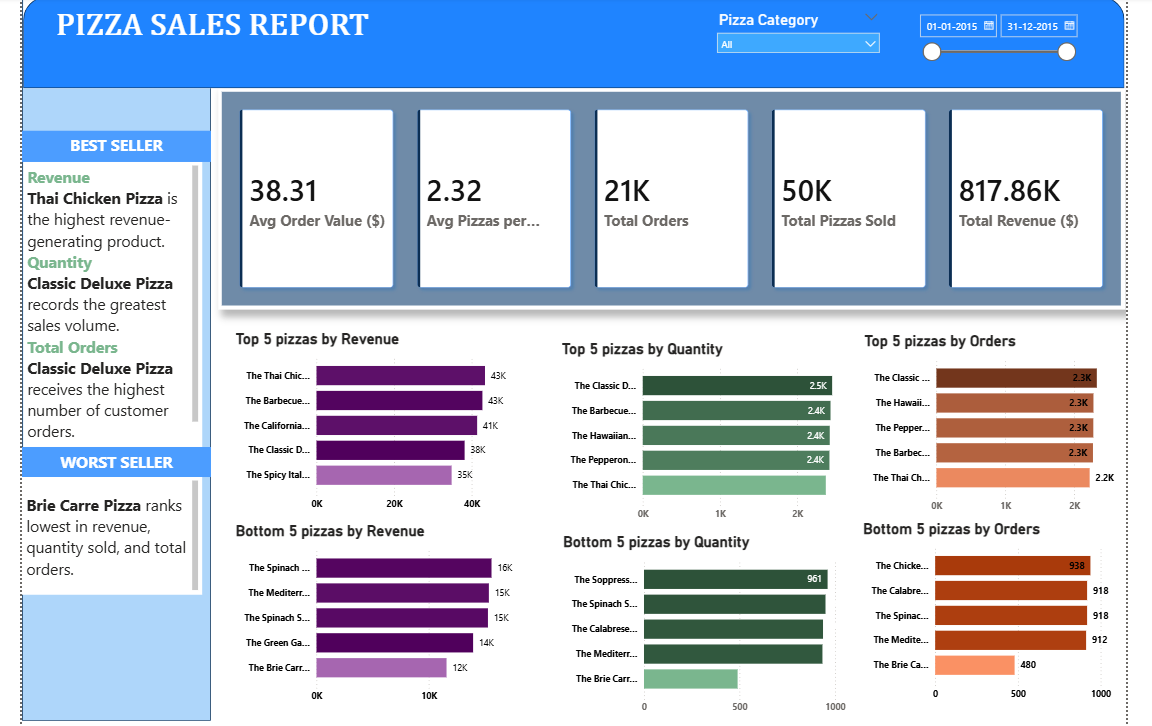

The page's visual inventory and layout, read from the dashboard file:
{"tool":"powerbi","page":{"name":"Best/Worst Sellers","canvas":[1500,1000],"ordinal":1},"visuals":[{"type":"cardVisual","fields":{"Data":["pizza_sales.Avg Order Value","pizza_sales.Avg Pizzas per Order","pizza_sales.Total Orders","pizza_sales.Total Pizzas","pizza_sales.Total Revenue"]},"box":[266.6,124,1233,300.6],"z":0},{"type":"qnaVisual","box":[1267.1,705.7,12.9,14.3],"z":1000},{"type":"shape","box":[0,0,256.5,983.4],"z":2000},{"type":"textbox","box":[0,181.7,256.5,42.5],"z":3000},{"type":"textbox","box":[1.7,224.2,242.9,387.2],"z":4000},{"type":"textbox","box":[0,611.4,256.5,40.8],"z":5000},{"type":"textbox","box":[0,652.2,244.6,159.6],"z":6000},{"type":"shape","box":[1.7,0,1496.3,124],"z":7000},{"type":"slicer","fields":{"Values":["pizza_sales.pizza_category"]},"box":[934.1,13.6,241.2,98.5],"z":8000},{"type":"slicer","fields":{"Values":["pizza_sales.order_date"]},"box":[1207.5,13.6,232.7,98.5],"z":9000},{"type":"textbox","title":"PIZZA SALES REPORT","box":[40.8,13.6,450.1,110.4],"z":10000},{"type":"barChart","title":"Top 5 pizzas by Revenue","fields":{"Category":["pizza_sales.pizza_name"],"Y":["pizza_sales.Total Revenue ($)"]},"box":[285.3,451.8,409.3,254.8],"z":11000},{"type":"barChart","title":"Bottom 5 pizzas by Revenue","fields":{"Category":["pizza_sales.pizza_name"],"Y":["pizza_sales.Total Revenue ($)"]},"box":[285.3,713.3,409.3,254.8],"z":12000},{"type":"barChart","title":"Top 5 pizzas by Quantity","fields":{"Category":["pizza_sales.pizza_name"],"Y":["pizza_sales.Total Pizzas Sold"]},"box":[728.6,465.4,409.3,254.8],"z":13000},{"type":"barChart","title":"Bottom 5 pizzas by Quantity","fields":{"Category":["pizza_sales.pizza_name"],"Y":["pizza_sales.Total Pizzas Sold"]},"box":[730.3,728.6,409.3,254.8],"z":14000},{"type":"barChart","title":"Top 5 pizzas by Orders","fields":{"Category":["pizza_sales.pizza_name"],"Y":["pizza_sales.Total Orders"]},"box":[1139.6,455.2,360.1,254.8],"z":15000},{"type":"barChart","title":"Bottom 5 pizzas by Orders","fields":{"Category":["pizza_sales.pizza_name"],"Y":["pizza_sales.Total Orders"]},"box":[1137.9,709.9,360.1,254.8],"z":16000}]}

Visuals, with their boxes on the page's 1500x1000 design canvas (x1, y1, x2, y2). These are canvas units, not pixel positions in the 1152x726 screenshot, which may show the page scaled, cropped or inside an application window:
cardVisual - pizza_sales.Avg Order Value x pizza_sales.Avg Pizzas per Order: <box>267,124,1500,425</box>
qnaVisual: <box>1267,706,1280,720</box>
shape: <box>0,0,256,983</box>
textbox: <box>0,182,256,224</box>
textbox: <box>2,224,245,611</box>
textbox: <box>0,611,256,652</box>
textbox: <box>0,652,245,812</box>
shape: <box>2,0,1498,124</box>
slicer - pizza_sales.pizza_category: <box>934,14,1175,112</box>
slicer - pizza_sales.order_date: <box>1208,14,1440,112</box>
"PIZZA SALES REPORT" textbox: <box>41,14,491,124</box>
"Top 5 pizzas by Revenue" barChart: <box>285,452,695,707</box>
"Bottom 5 pizzas by Revenue" barChart: <box>285,713,695,968</box>
"Top 5 pizzas by Quantity" barChart: <box>729,465,1138,720</box>
"Bottom 5 pizzas by Quantity" barChart: <box>730,729,1140,983</box>
"Top 5 pizzas by Orders" barChart: <box>1140,455,1500,710</box>
"Bottom 5 pizzas by Orders" barChart: <box>1138,710,1498,965</box>
